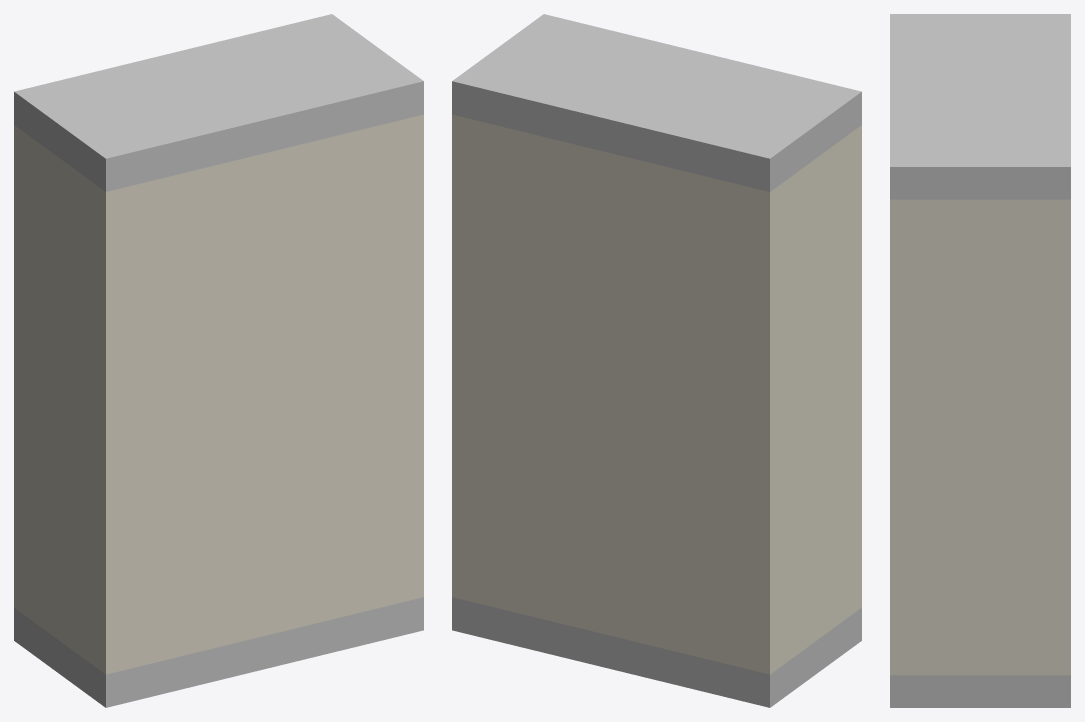
File: vfem2_timbered_wall_arm.obj
3 renders of one model, left to right at view 1: azimuth 30°, elevation 25°; view 2: azimuth 150°, elevation 25°; view 3: azimuth 270°, elevation 25°, orthographic.
Parts seen in each view (by area): view 1: vfem2_timbered_wall_arm; view 2: vfem2_timbered_wall_arm; view 3: vfem2_timbered_wall_arm.
Part boxes in pixels (bbox=[...]): vfem2_timbered_wall_arm: bbox=[14, 14, 423, 707]; vfem2_timbered_wall_arm: bbox=[452, 14, 861, 707]; vfem2_timbered_wall_arm: bbox=[890, 14, 1070, 707].
Size of the model in its own units: 1 by 1.65 by 0.5.
